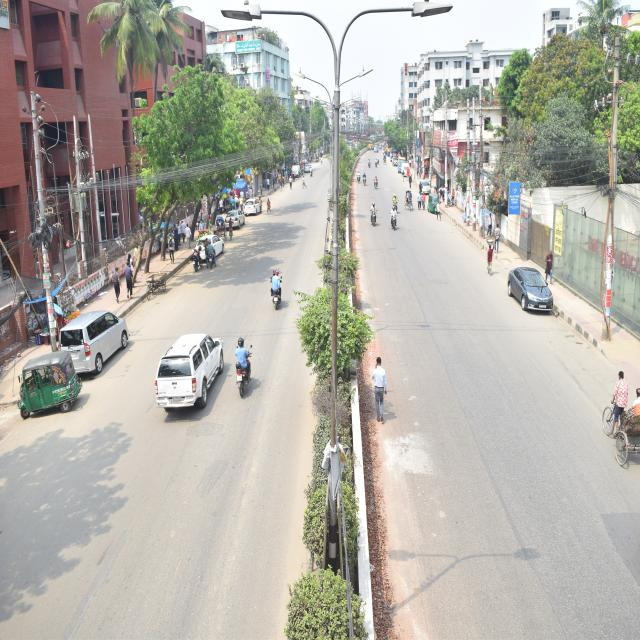car: (139, 300, 254, 444), (502, 243, 586, 374), (50, 295, 154, 386), (187, 212, 239, 269), (216, 190, 256, 239), (239, 188, 271, 234), (418, 177, 442, 208), (302, 153, 320, 184), (402, 154, 417, 188)
motorbike: (228, 324, 270, 424), (269, 257, 310, 350), (367, 194, 387, 253), (191, 234, 206, 277), (204, 235, 219, 276), (387, 202, 402, 241), (390, 191, 406, 221), (374, 177, 382, 202), (371, 156, 381, 173), (366, 152, 373, 175), (364, 172, 370, 194), (356, 170, 362, 192)
pickup-van: (292, 162, 310, 190)
